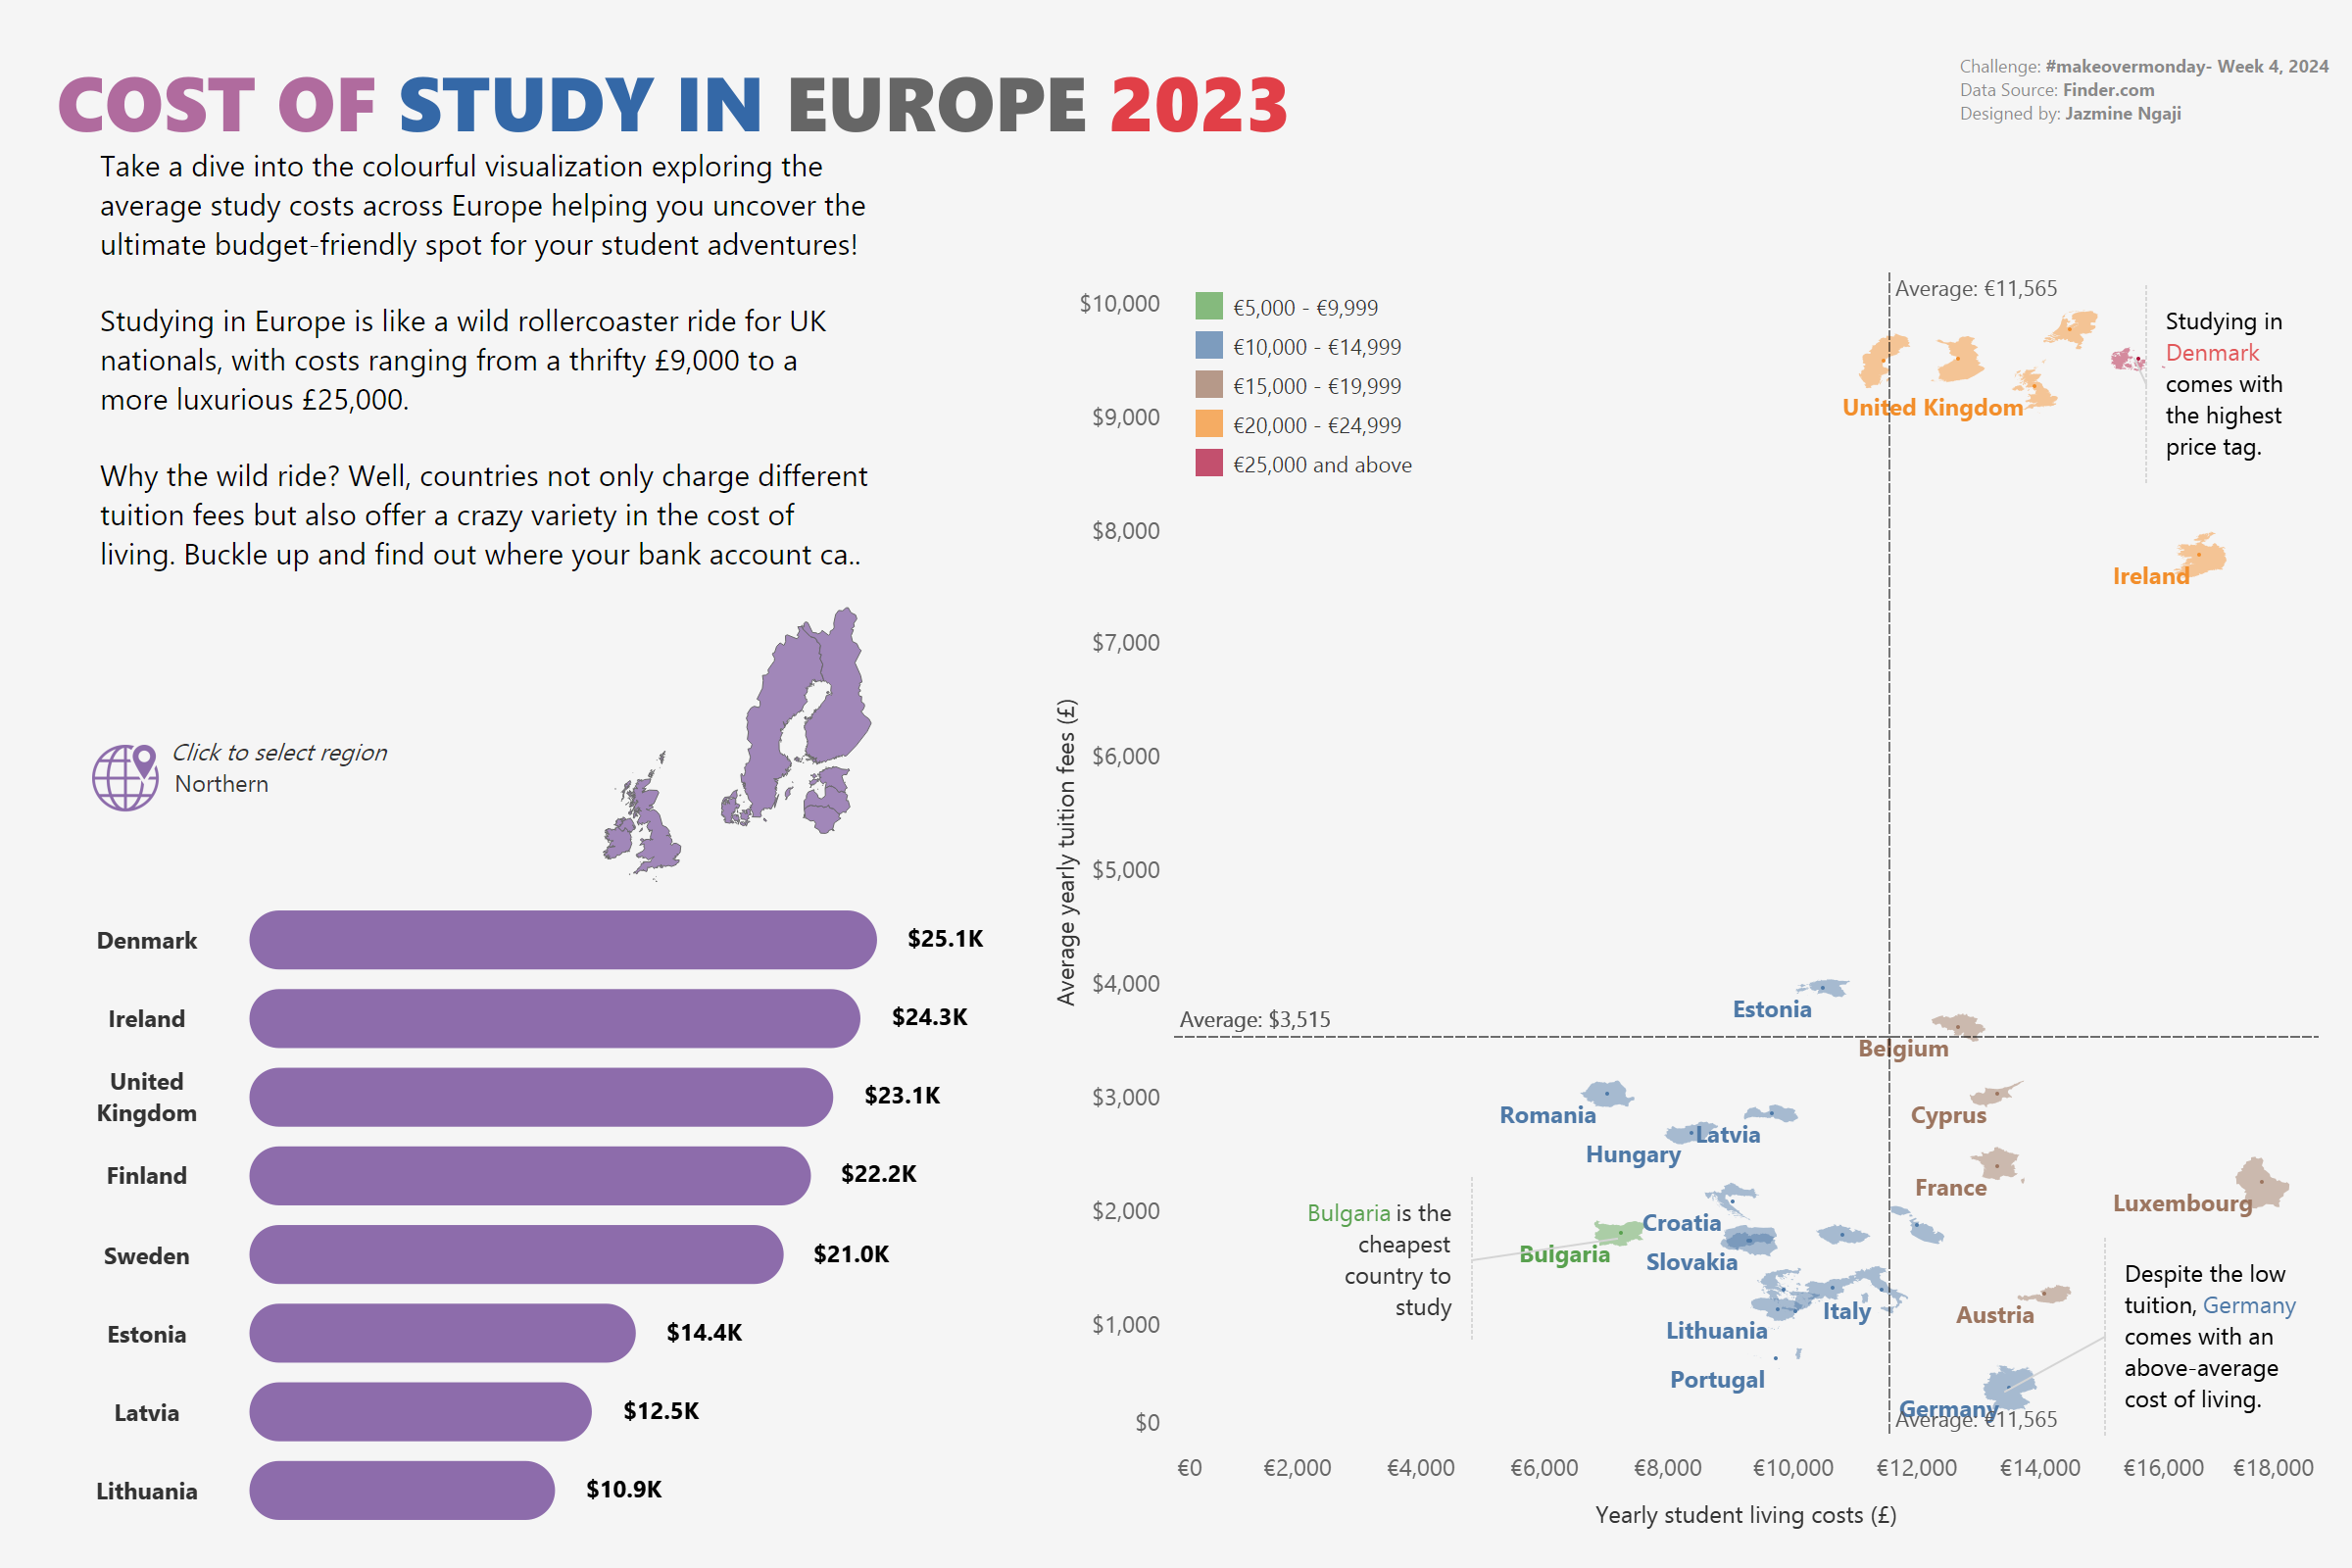

Layout of this report page (visuals, bound fields, positions):
{"tool":"tableau","page":{"name":"Cost of study in Europe","canvas":[1200,800],"ordinal":0},"visuals":[{"type":"text","box":[997,21,195,48]},{"type":"text","box":[26,26,821,50]},{"type":"text","box":[48,68,399,232]},{"type":"legend","title":"Scatter Plot by map","param":"[federated.02795ty06jyech1aqjnm60i6w6gt].[none:Total yearly living costs and fee","box":[530,95,652,23]},{"type":"worksheet","title":"Scatter Plot by map","mark":"Multipolygon","rows":["Average yearly tuition fees (£)"],"cols":["Yearly student living costs (£)","Yearly student living costs (£)"],"box":[509,139,674,641]},{"type":"worksheet","title":"Map","mark":"Multipolygon","box":[246,303,260,154]},{"type":"worksheet","title":"Region Icon","mark":"Shape","box":[29,373,71,49]},{"type":"parameter","param":"[Parameters].[Parameter 1]","box":[87,374,160,47]},{"type":"worksheet","title":"Bar","mark":"Line","rows":["Country"],"box":[29,459,483,321]}]}

Visuals, with their boxes in screenshot pixels (x1, y1, x2, y2), scaled from the page's 1200x800 canvas onto the 2352x1568 screenshot:
text: box(1954, 41, 2336, 135)
text: box(51, 51, 1660, 149)
text: box(94, 133, 876, 588)
"Scatter Plot by map" legend: box(1039, 186, 2317, 231)
"Scatter Plot by map" worksheet (Multipolygon marks): box(998, 272, 2319, 1529)
"Map" worksheet (Multipolygon marks): box(482, 594, 992, 896)
"Region Icon" worksheet (Shape marks): box(57, 731, 196, 827)
parameter: box(171, 733, 484, 825)
"Bar" worksheet (Line marks): box(57, 900, 1004, 1529)
